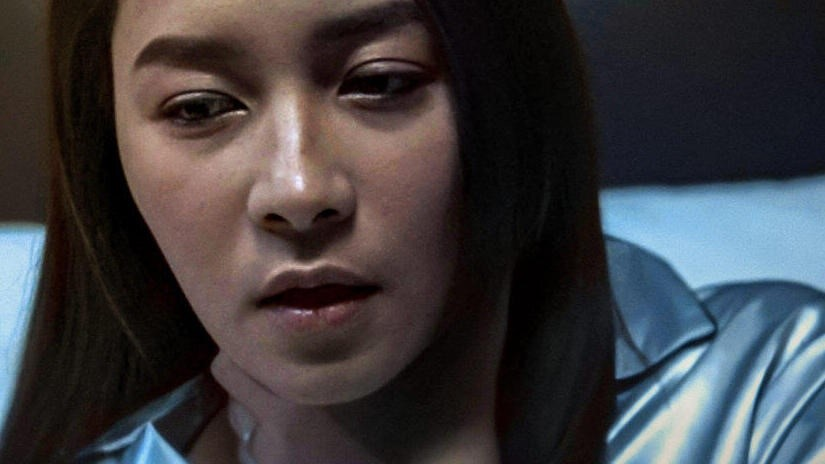face_no_mask: (57, 2, 549, 403)
